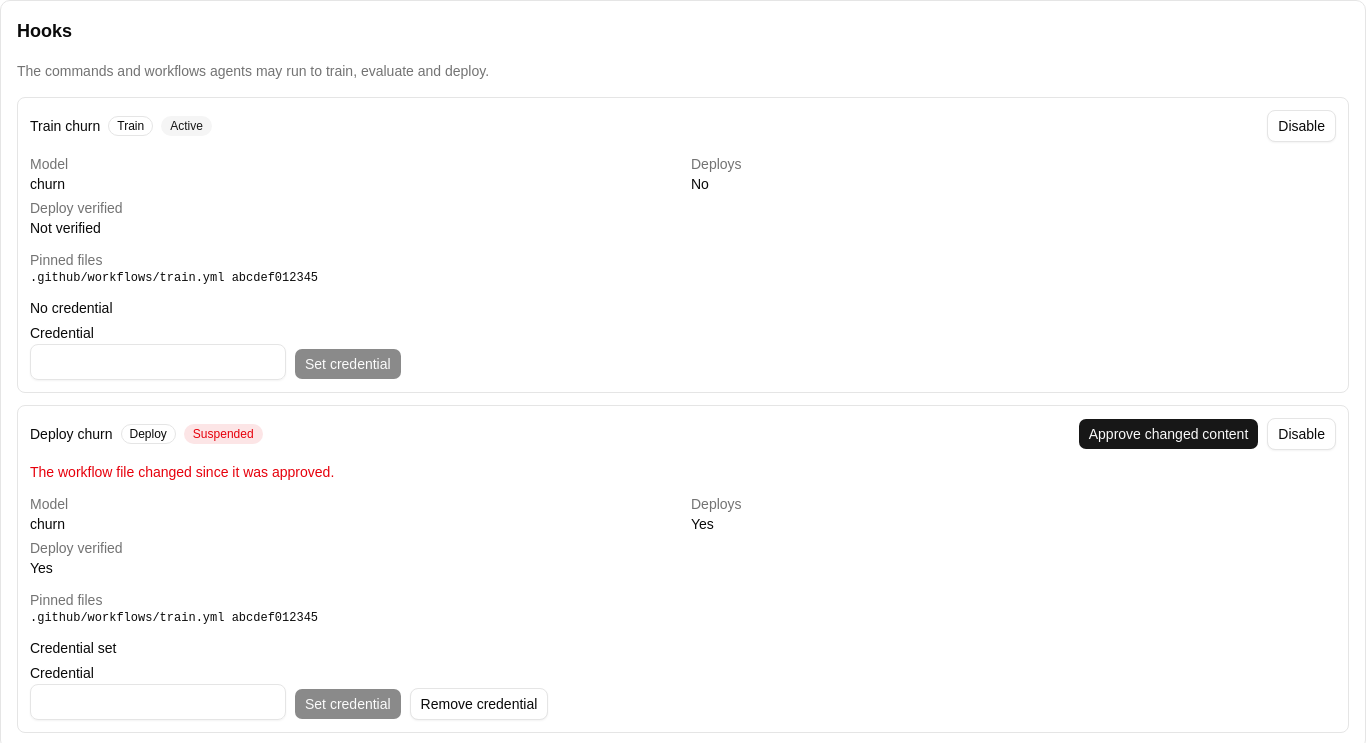
Test: HooksSection › shows a refused enable as the server wrote it
Click the button "Disable" in the row of "Active" at (1302, 126), box [1267,110,1336,142]
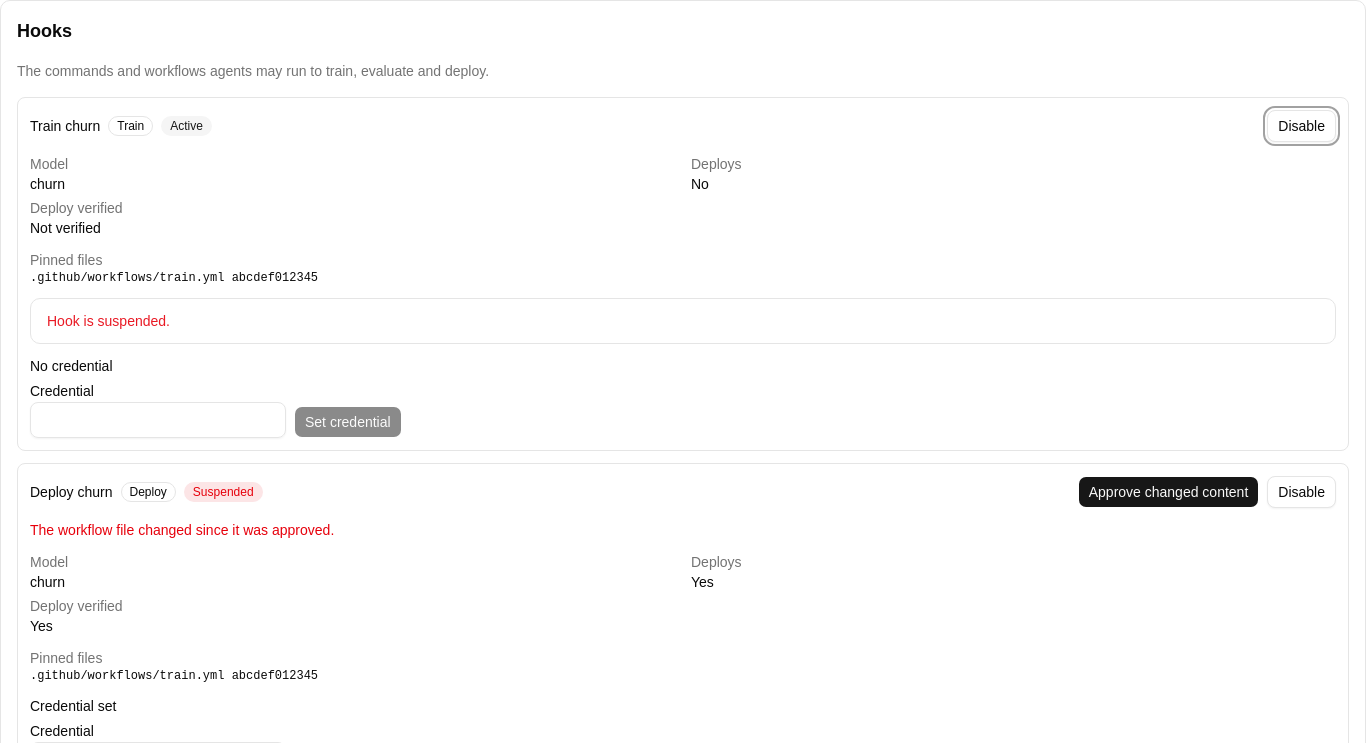
Check: the text "Hook is suspended." is shown, box [47,313,170,329]
